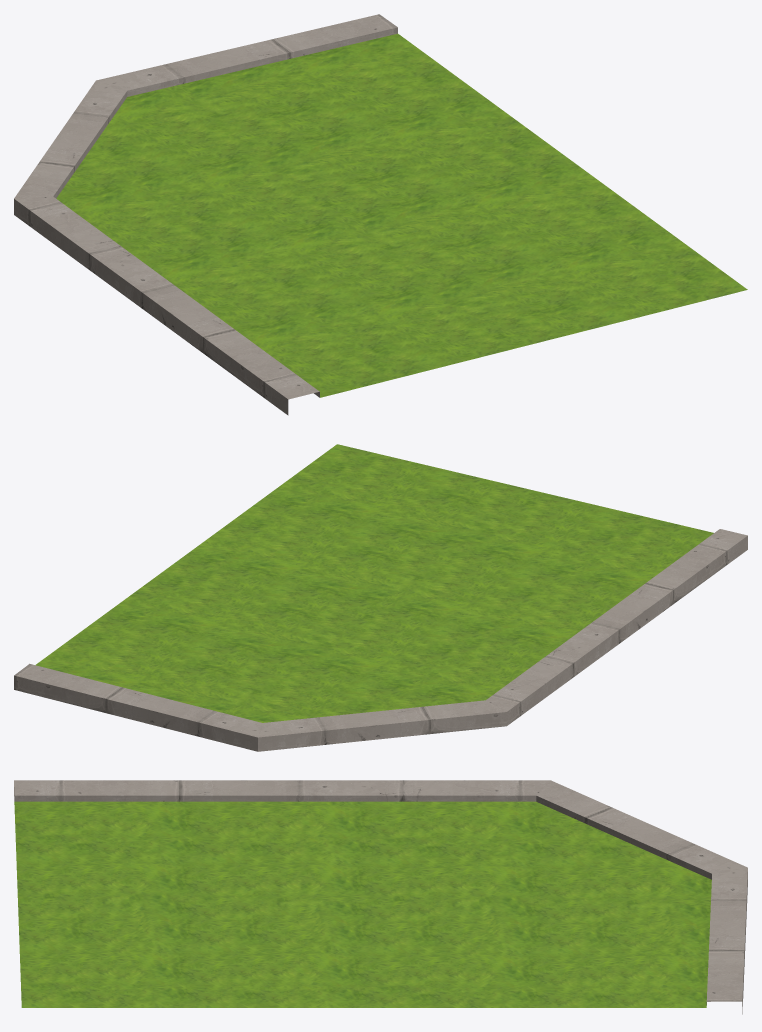
Rendered from GrassTile_R.fbx.
3 renders of one model, top to bottom at view 1: azimuth 30°, elevation 25°; view 2: azimuth 150°, elevation 25°; view 3: azimuth 270°, elevation 25°, orthographic. The views are drawn at different scales.
Parts seen in each view (by area): view 1: GrassTile_R; view 2: GrassTile_R; view 3: GrassTile_R.
Part boxes in pixels (box(x1,y1,x2,y2)): GrassTile_R: box(14, 14, 747, 415); GrassTile_R: box(14, 444, 747, 751); GrassTile_R: box(14, 780, 747, 1014).
Bounding box in the file's own units: 1015 × 33.99 × 1423.
2 materials, 2 textured.
